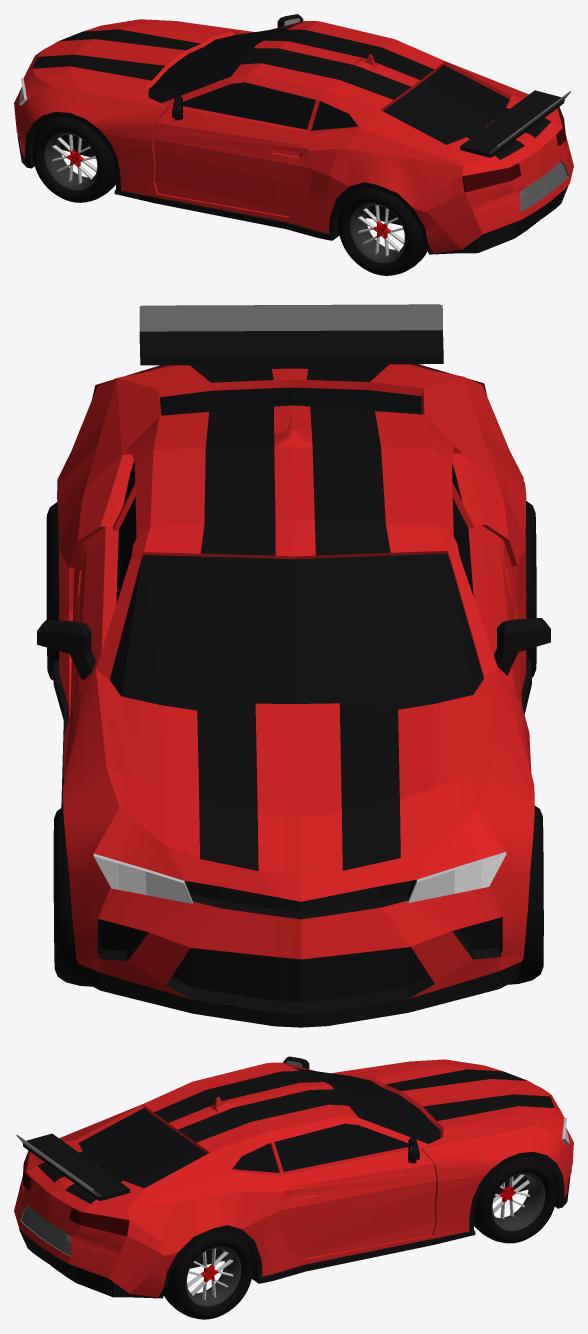
Rendered from Car.fbx.
The picture shows the model from 3 angles, top to bottom: view 1: azimuth 30°, elevation 25°; view 2: azimuth 150°, elevation 25°; view 3: azimuth 270°, elevation 25°; orthographic projection. The views are drawn at different scales.
Parts seen in each view (by area): view 1: polySurface59, polySurface43, polySurface65, Tier_2, Tier, Back, pPipe4_2, pPipe4, polySurface49, polySurface45, pCube871_2, pCube871; view 2: polySurface59, polySurface43, polySurface65, Back, polySurface41, Tier_1, Tier, Left_Side_Mirror, Right_Side_Mirror, Tier_3, Tier_2; view 3: polySurface59, polySurface43, polySurface65, Tier_3, Tier_1, Back, pPipe4_1, pPipe4_3, polySurface49, polySurface45, pCube871_3, pCube871_1.
Part boxes in pixels (<box>): polySurface59: <box>14,19,573,253</box>; polySurface43: <box>148,26,509,144</box>; polySurface65: <box>17,112,568,254</box>; Tier_2: <box>338,187,427,275</box>; Tier: <box>32,117,115,202</box>; Back: <box>460,90,570,157</box>; pPipe4_2: <box>350,203,406,262</box>; pPipe4: <box>44,132,98,190</box>; polySurface49: <box>462,107,566,192</box>; polySurface45: <box>520,161,568,212</box>; pCube871_2: <box>358,205,404,256</box>; pCube871: <box>52,134,96,184</box>; polySurface59: <box>57,364,534,999</box>; polySurface43: <box>110,387,483,710</box>; polySurface65: <box>53,658,531,1027</box>; Back: <box>139,304,443,370</box>; polySurface41: <box>93,852,506,903</box>; Tier_1: <box>53,807,91,986</box>; Tier: <box>508,805,543,984</box>; Left_Side_Mirror: <box>37,620,95,679</box>; Right_Side_Mirror: <box>494,618,550,675</box>; Tier_3: <box>46,502,59,680</box>; Tier_2: <box>525,501,536,677</box>; polySurface59: <box>14,1059,573,1297</box>; polySurface43: <box>78,1068,440,1188</box>; polySurface65: <box>19,1152,570,1298</box>; Tier_3: <box>164,1230,253,1319</box>; Tier_1: <box>474,1157,556,1243</box>; Back: <box>16,1133,130,1200</box>; pPipe4_1: <box>491,1172,545,1230</box>; pPipe4_3: <box>185,1246,241,1306</box>; polySurface49: <box>22,1150,129,1236</box>; polySurface45: <box>20,1205,70,1256</box>; pCube871_3: <box>187,1248,233,1300</box>; pCube871_1: <box>493,1174,529,1218</box>.
Bounding box in the file's own units: 271 × 112 × 344.
